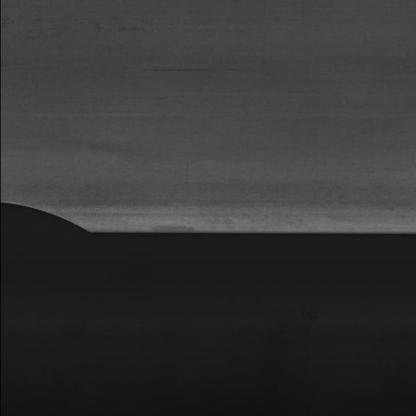crescent_gap: (0, 192, 97, 244)
